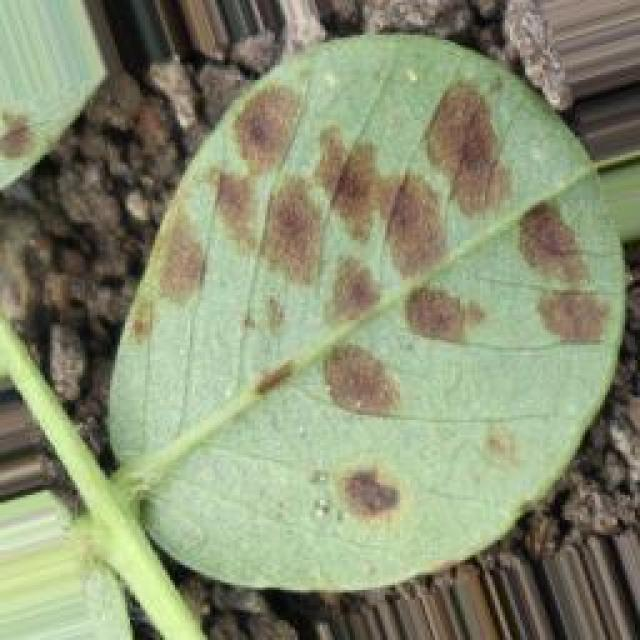Whitefly: (0, 0, 609, 561)
